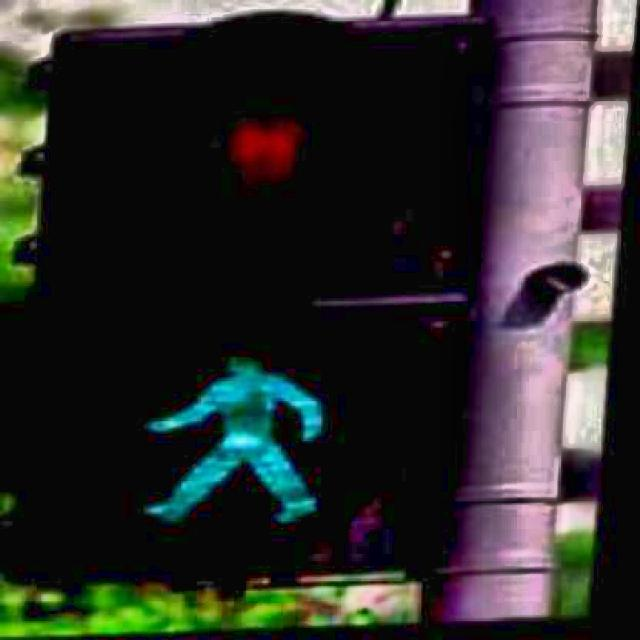semaforo pedestre: (0, 0, 552, 618), (42, 282, 429, 548)
